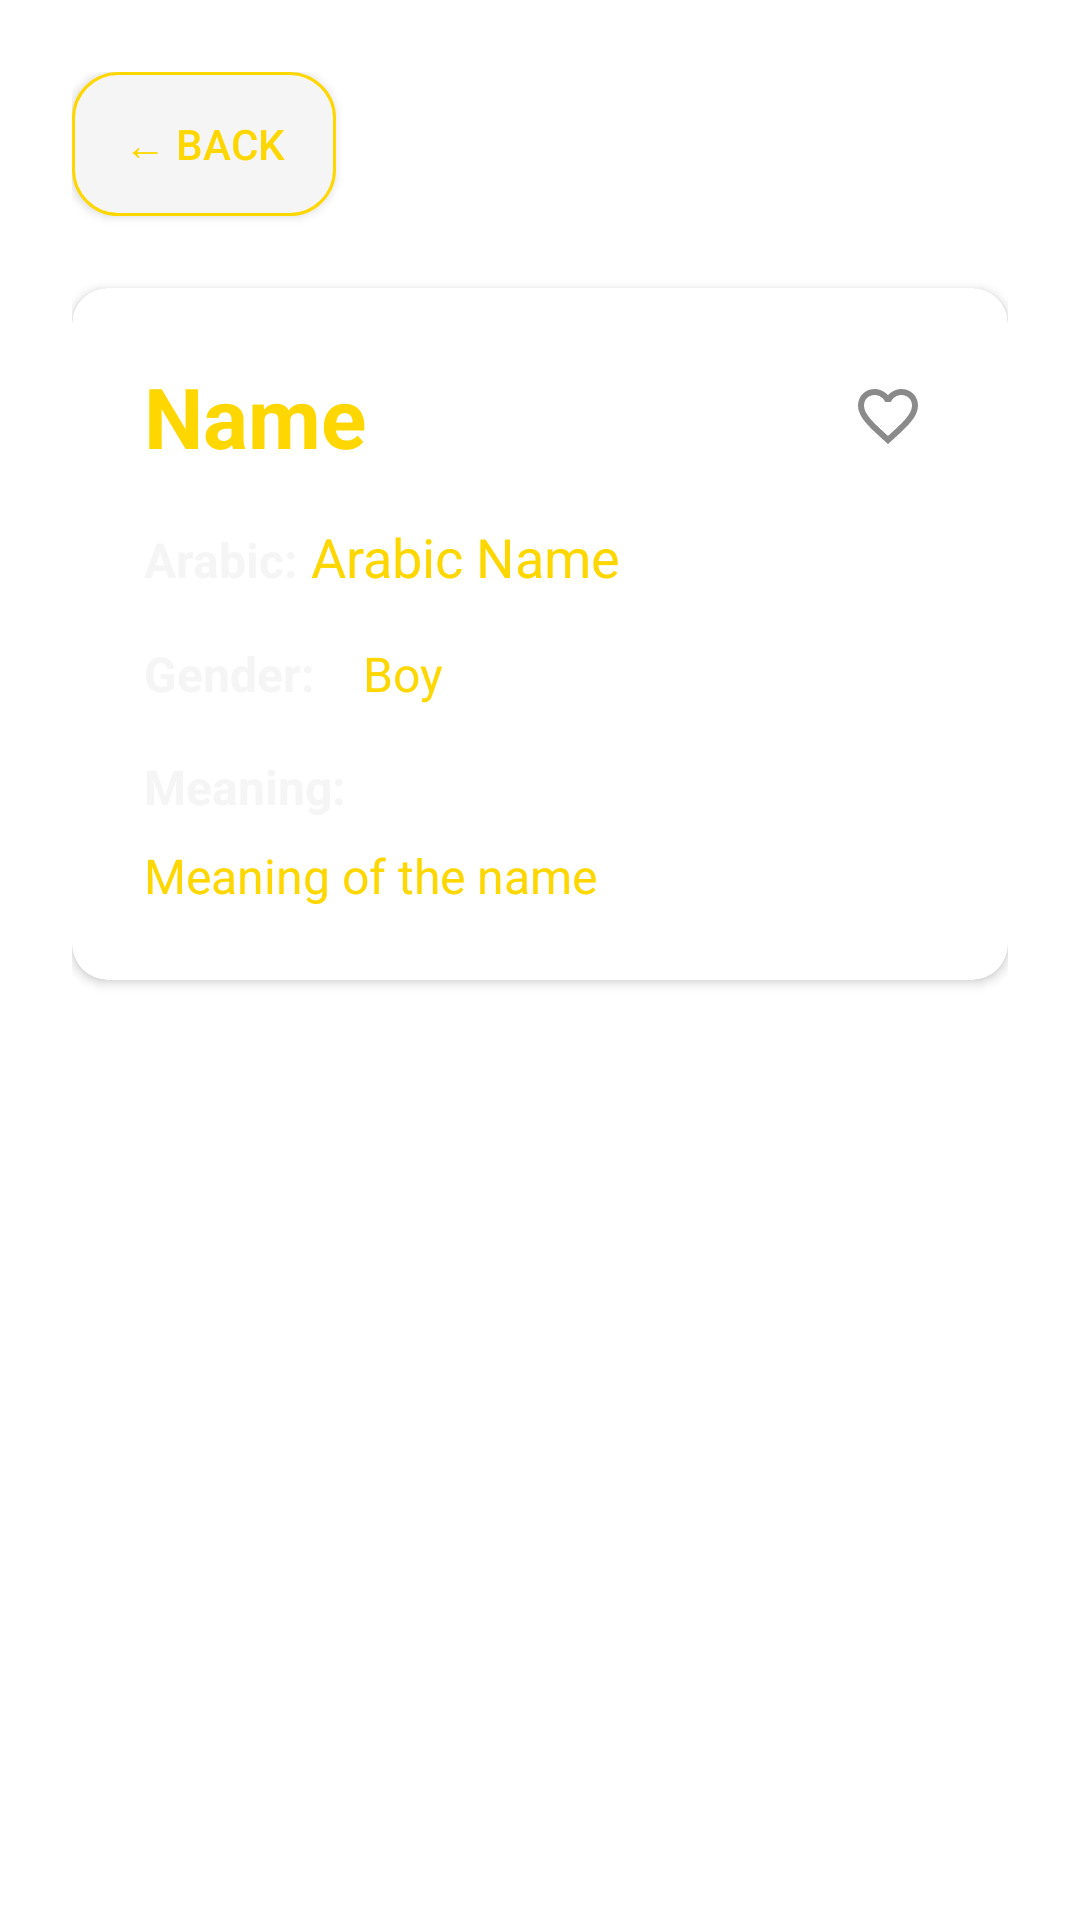

Point at icon controls on the screen. Image size 1080px x 1920px, points as point (x, y).
favorite: point (888, 416)
